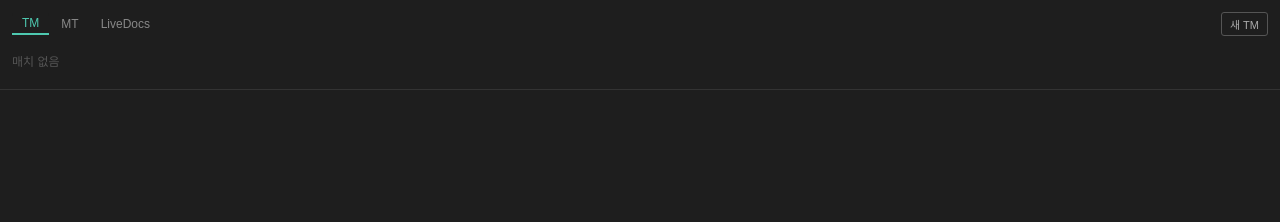
TmPanel › LiveDocs 탭 › 검색 결과 매치 항목이 문장·경로·점수%로 렌더링된다
The image size is (1280, 222).
Step 1. Click the button "LiveDocs" → (125, 24), box x1=91 y1=13 x2=160 y2=35
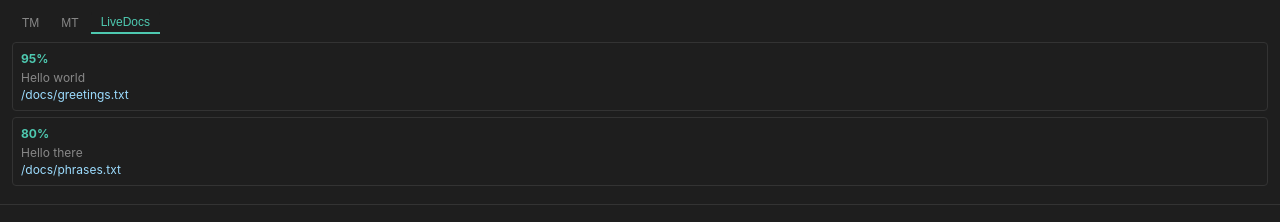
Expected: the text "95%" is shown, x1=21 y1=51 x2=48 y2=66
Expected: the text "Hello world" is shown, x1=21 y1=70 x2=85 y2=85
Expected: the text "/docs/greetings.txt" is shown, x1=21 y1=87 x2=129 y2=102
